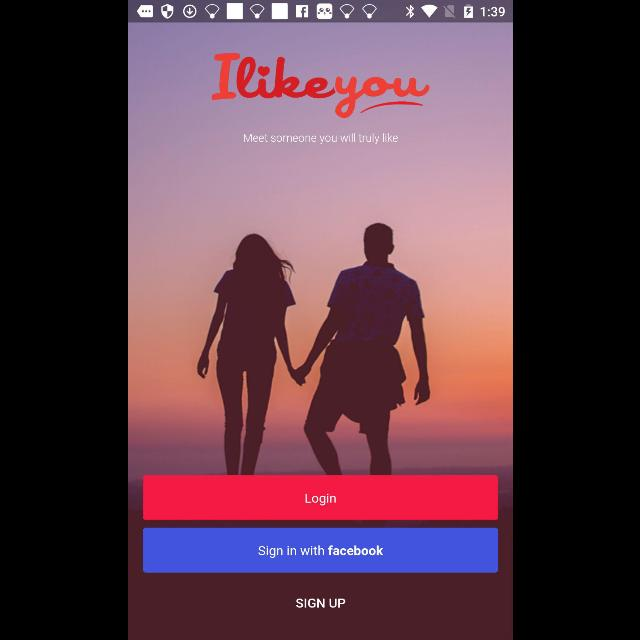backgroundimage: (128, 22, 512, 640)
image: (211, 52, 429, 118)
text: (242, 132, 398, 146), (295, 598, 345, 608)
textbutton: (142, 528, 498, 572), (142, 476, 498, 520)
uppertaskbar: (128, 1, 512, 23)
